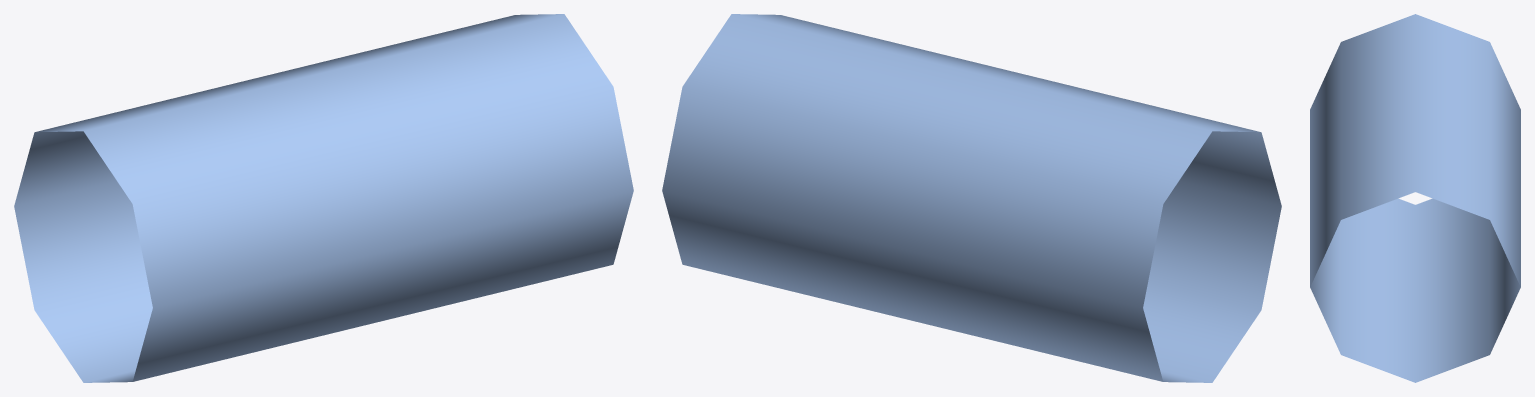
The model's file is PipeSmall_Straight_L02.fbx.
3 views of the same model, side by side, from view 1: azimuth 30°, elevation 25°; view 2: azimuth 150°, elevation 25°; view 3: azimuth 270°, elevation 25° (orthographic). The views are drawn at different scales.
Parts seen in each view (by area): view 1: PipeSmall_Straight_L02.001; view 2: PipeSmall_Straight_L02.001; view 3: PipeSmall_Straight_L02.001.
Part boxes in pixels (left/top/right/bottom): PipeSmall_Straight_L02.001: left=14, top=14, right=633, bottom=382; PipeSmall_Straight_L02.001: left=662, top=14, right=1281, bottom=382; PipeSmall_Straight_L02.001: left=1310, top=14, right=1520, bottom=382.
Bounding box in the file's own units: 0.2 × 0.1 × 0.1.
